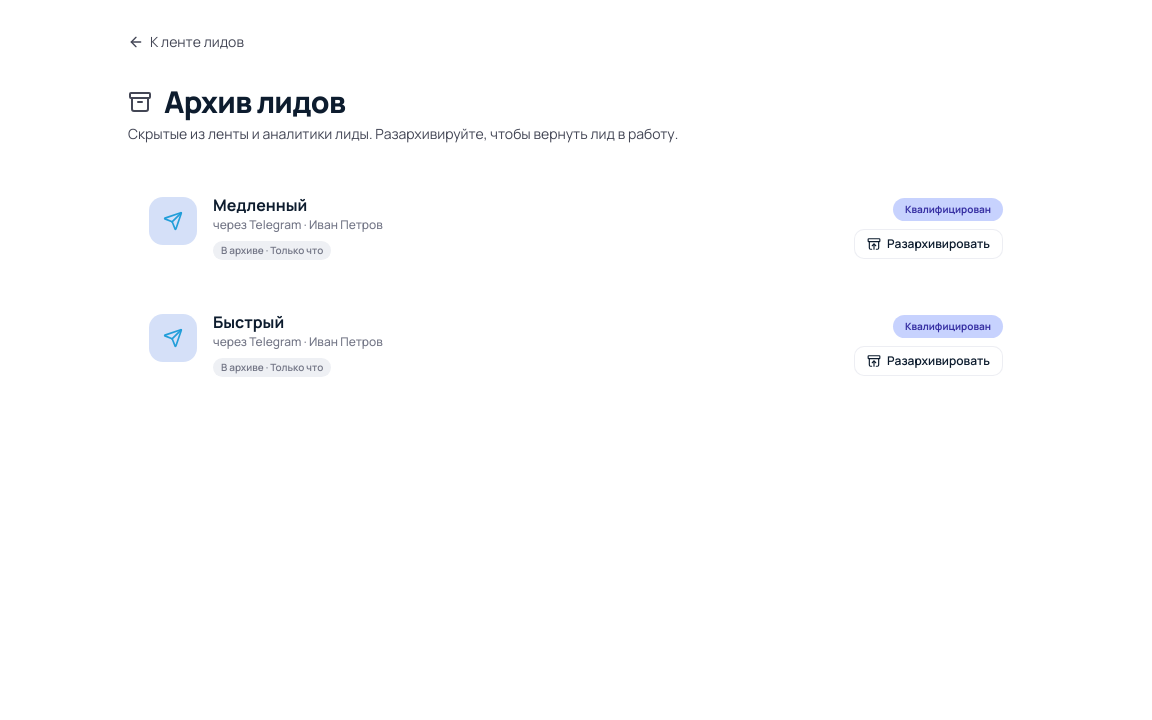
Test: ArchivedLeadsPage › lets another row unarchive while a first unarchive is still in flight
This screenshot has width=1152, height=720.
Expected: the heading "Медленный" is shown, 213,194 -> 307,216
Click the 1st button "Разархивировать" at (929, 244), box 854,229 -> 1003,259
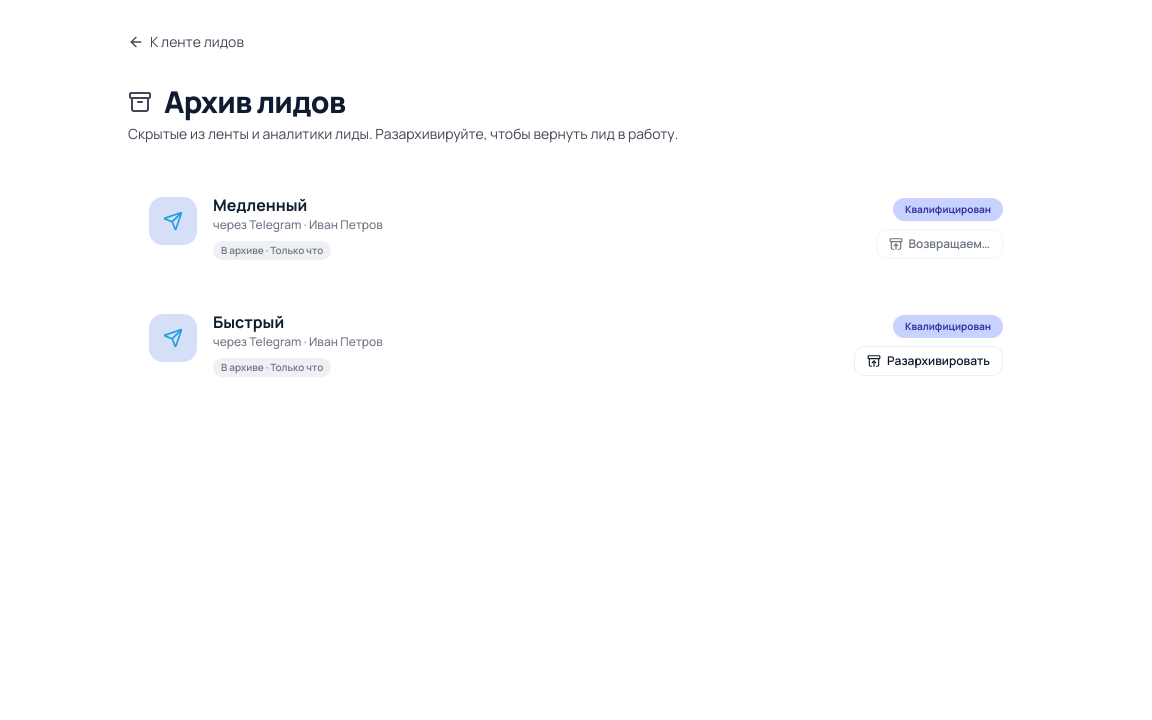
Click the button "Разархивировать" at (929, 361), box 854,346 -> 1003,376
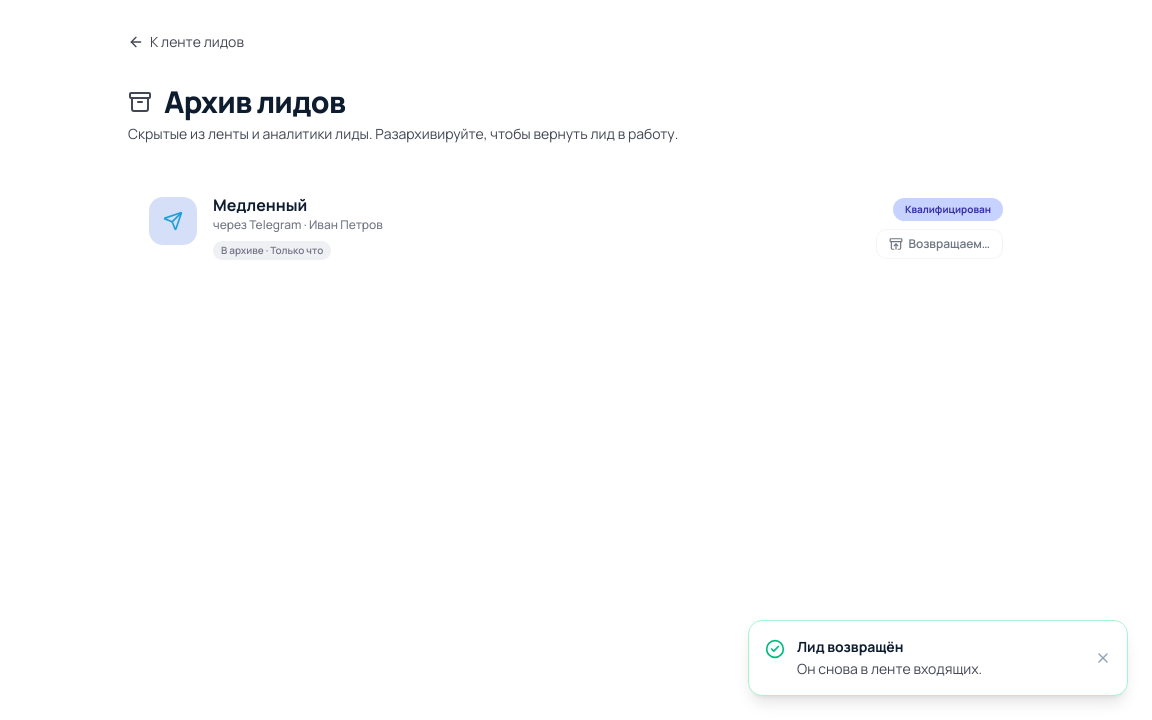
Expected: the heading "Медленный" is shown, 213,194 -> 307,216
Now the link "Быстрый" is gone
